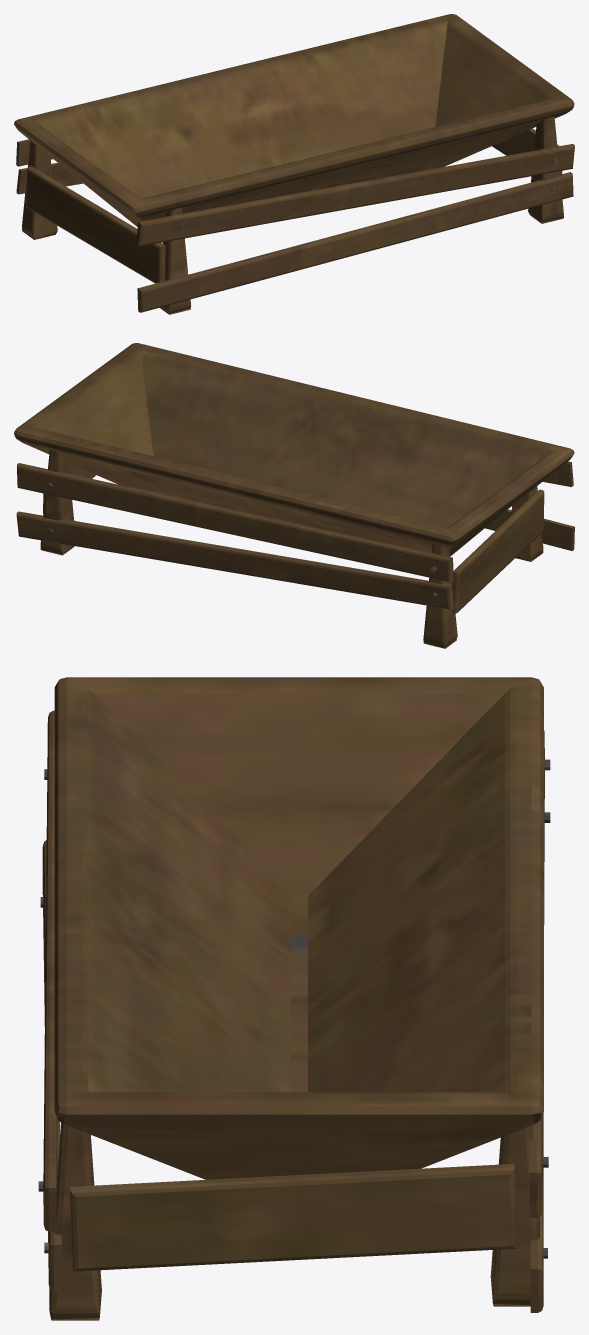
The model's file is Feeding Trough.fbx.
3 views of the same model, one above another, from view 1: azimuth 30°, elevation 25°; view 2: azimuth 150°, elevation 25°; view 3: azimuth 270°, elevation 25° (orthographic). The views are drawn at different scales.
Visible parts, largest first — view 1: Sphere.005; view 2: Sphere.005; view 3: Sphere.005.
Boxes of the visible parts, x1,y1,x2,y2 form: Sphere.005: (14, 14, 574, 314); Sphere.005: (14, 343, 574, 648); Sphere.005: (38, 677, 550, 1320).
Size of the model in its own units: 100 by 25 by 50.
Materials: 1 (1 with a texture image).
